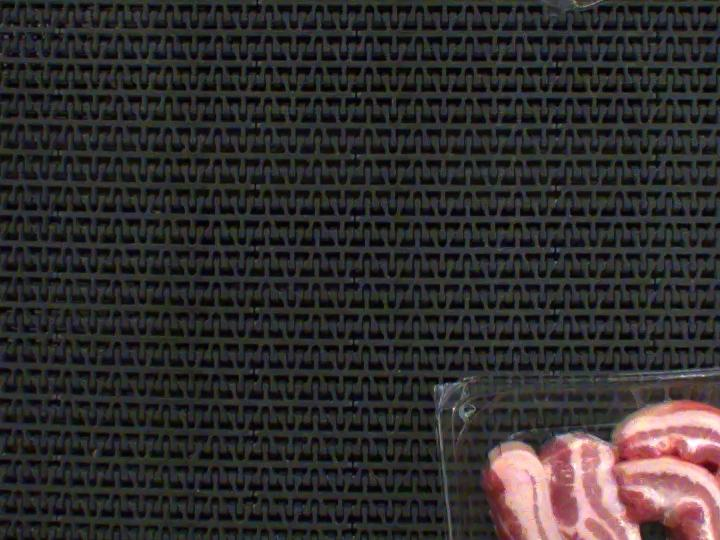packaging-error: (623, 377, 672, 408)
